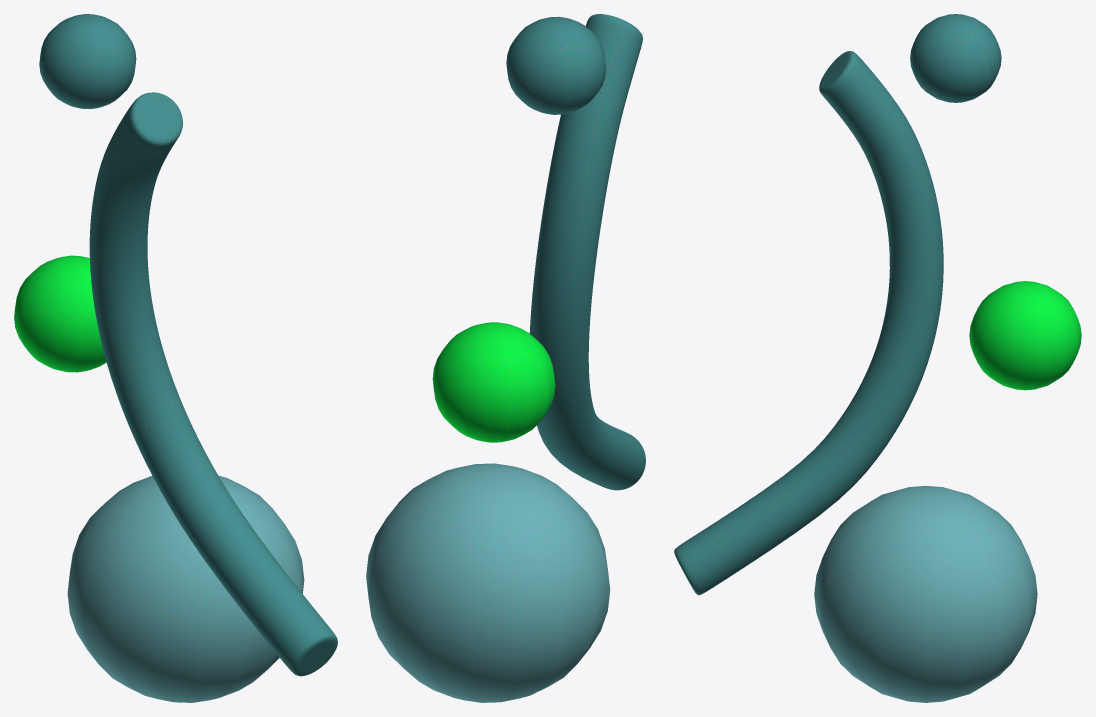
3 renders of one model, left to right at view 1: azimuth 30°, elevation 25°; view 2: azimuth 150°, elevation 25°; view 3: azimuth 270°, elevation 25°, orthographic. The views are drawn at different scales.
Parts seen in each view (by area): view 1: E.1; view 2: E.1; view 3: E.1.
Part boxes in pixels (x1,y1,x2,y2): E.1: (14, 14, 337, 702); E.1: (366, 14, 645, 702); E.1: (674, 14, 1081, 702).
Size of the model in its own units: 0.4886 by 1.39 by 0.8091.
Materials: 1 (1 with a texture image).
